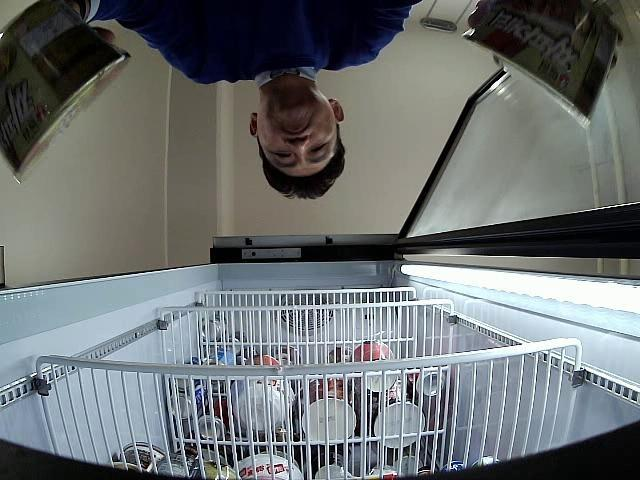03_chapagetti_L: (0, 0, 129, 185), (463, 0, 618, 127)
